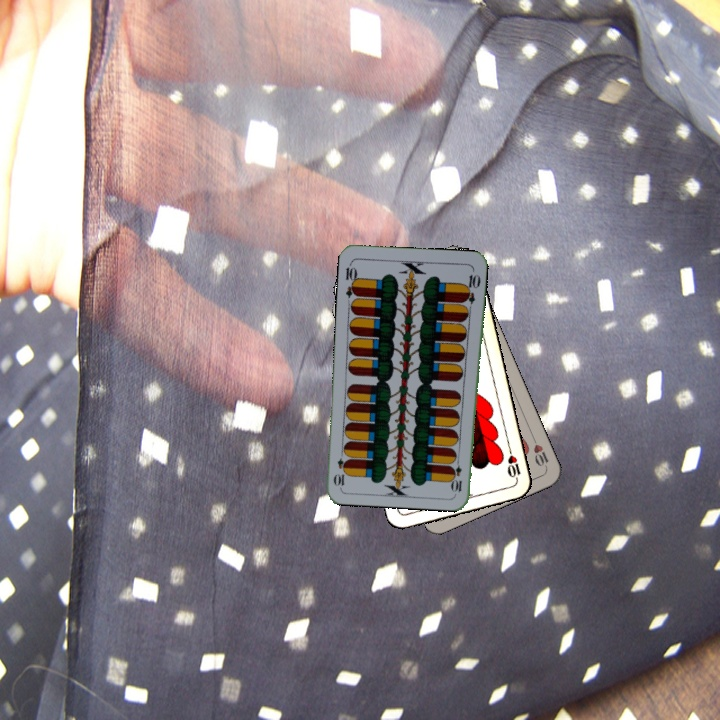E10: (342, 259, 361, 300), (450, 454, 464, 494)
H10: (528, 432, 552, 471), (503, 444, 523, 485)
